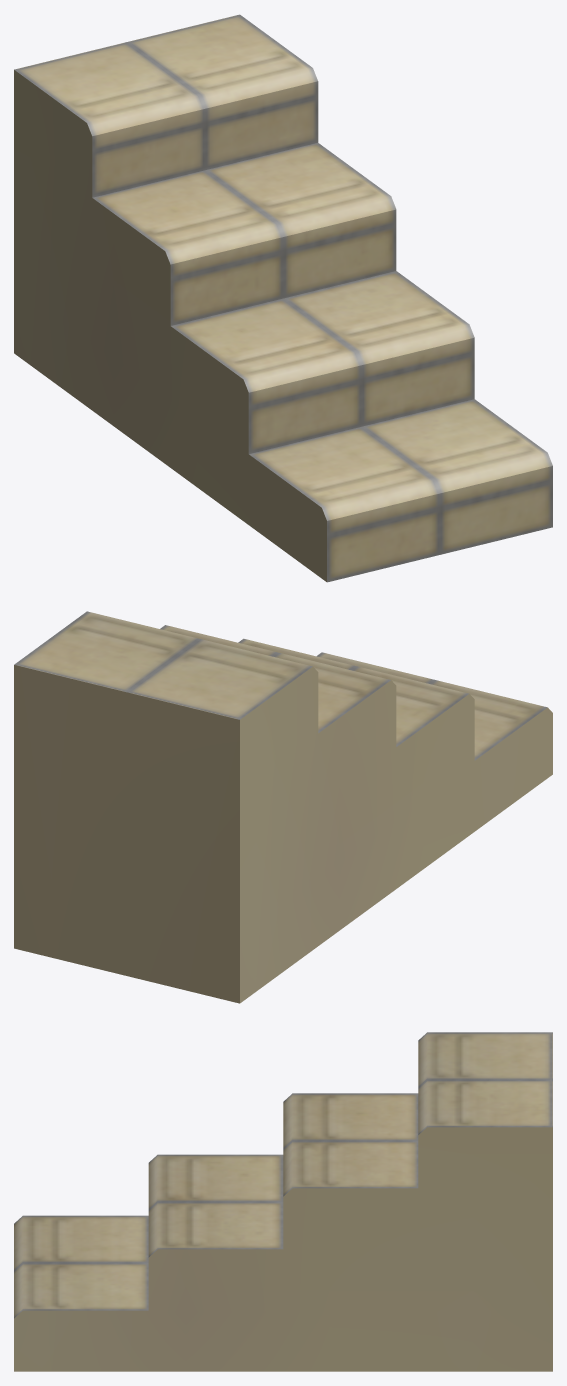
Rendered from set_floor_03b_04_stairs.fbx.
3 renders of one model, top to bottom at view 1: azimuth 30°, elevation 25°; view 2: azimuth 150°, elevation 25°; view 3: azimuth 270°, elevation 25°, orthographic. The views are drawn at different scales.
Parts seen in each view (by area): view 1: set_floor_03b_04_stairs; view 2: set_floor_03b_04_stairs; view 3: set_floor_03b_04_stairs.
Boxes of the visible parts, box(x1,y1,x2,y2) form: set_floor_03b_04_stairs: box(14, 14, 552, 582); set_floor_03b_04_stairs: box(14, 611, 552, 1003); set_floor_03b_04_stairs: box(14, 1032, 552, 1371).
Bounding box in the file's own units: 50 × 60 × 120.
